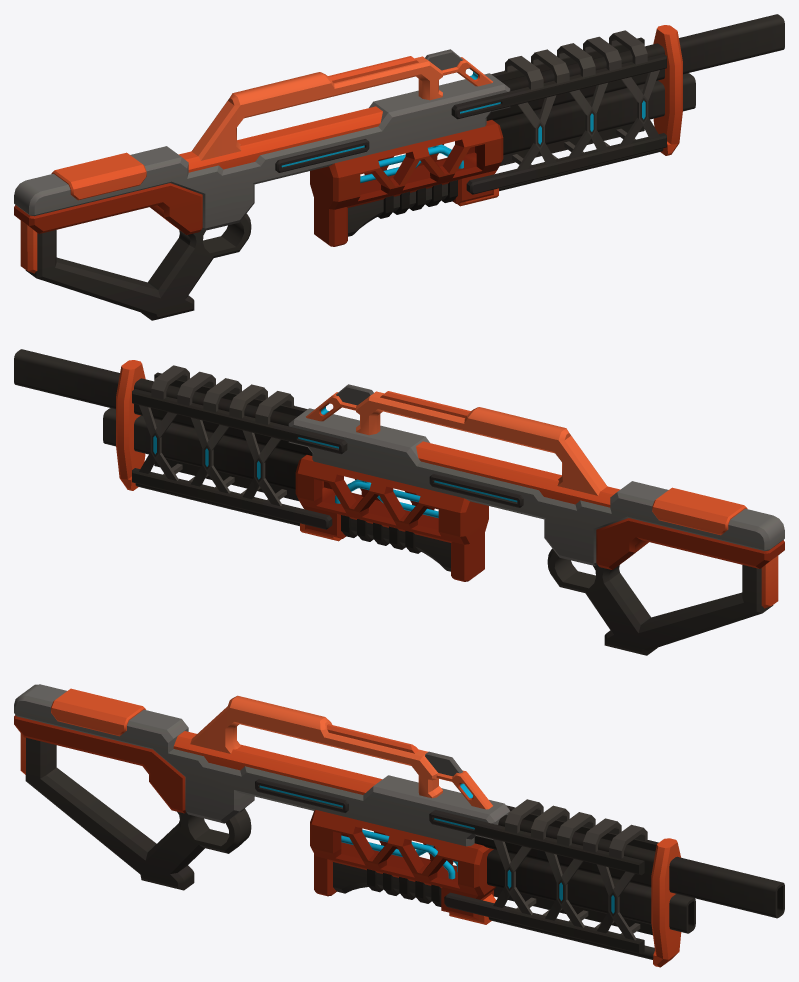
The picture shows the model from 3 angles, top to bottom: view 1: azimuth 30°, elevation 25°; view 2: azimuth 150°, elevation 25°; view 3: azimuth 330°, elevation 25°; orthographic projection.
Visible parts, largest first — view 1: MG6_Base; view 2: MG6_Base; view 3: MG6_Base.
Part boxes in pixels (left/top/right/bottom): MG6_Base: left=14, top=14, right=784, bottom=320; MG6_Base: left=14, top=349, right=784, bottom=655; MG6_Base: left=14, top=684, right=784, bottom=967.
Bounding box in the file's own units: 1.26 × 0.3182 × 0.0885.
